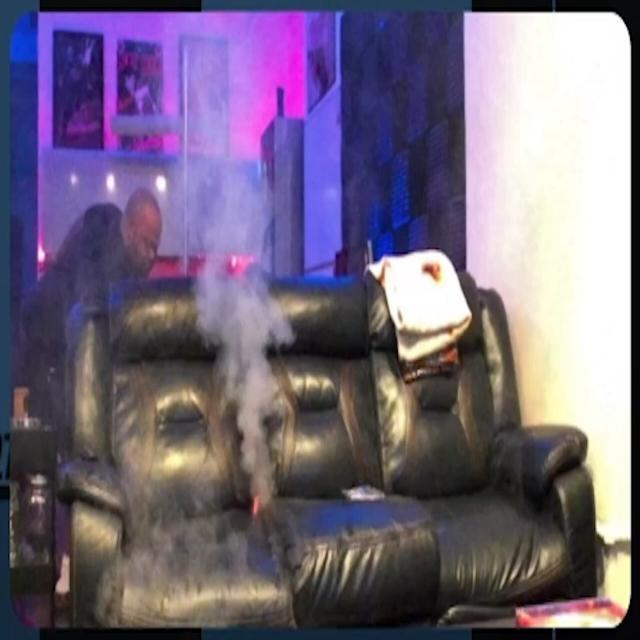Smoke: (195, 152, 294, 492)
